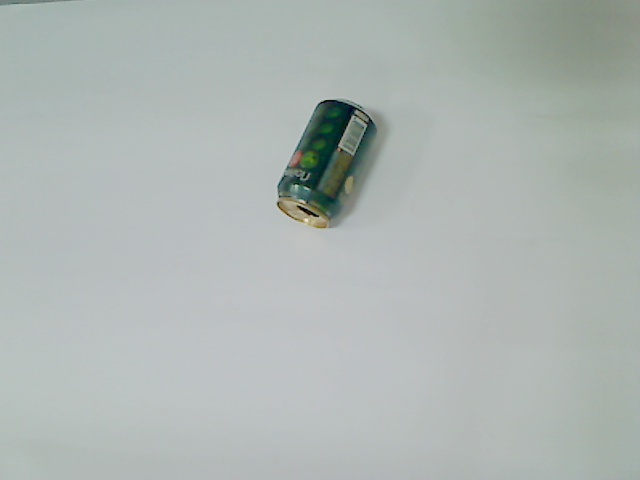can: (274, 96, 381, 231)
